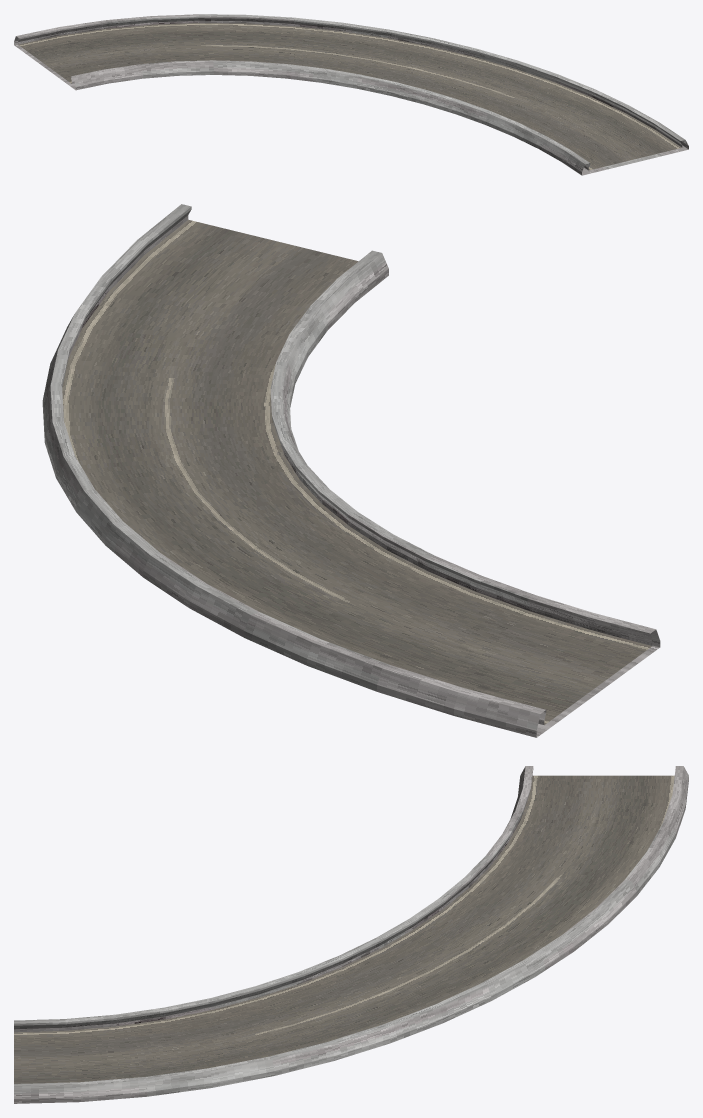
File: road-Turn-Flat-Flat-Up1-Left-Size4.glb
3 views of the same model, one above another, from view 1: azimuth 30°, elevation 25°; view 2: azimuth 150°, elevation 25°; view 3: azimuth 270°, elevation 25° (orthographic). The views are drawn at different scales.
Parts seen in each view (by area): view 1: road-Turn-Flat-Flat-Up1-Left-Size4; view 2: road-Turn-Flat-Flat-Up1-Left-Size4; view 3: road-Turn-Flat-Flat-Up1-Left-Size4.
Part boxes in pixels (x1,y1,x2,y2): road-Turn-Flat-Flat-Up1-Left-Size4: [14, 14, 688, 175]; road-Turn-Flat-Flat-Up1-Left-Size4: [42, 204, 660, 737]; road-Turn-Flat-Flat-Up1-Left-Size4: [14, 766, 688, 1103].
Bounding box in the file's own units: 4 × 0.3438 × 4.
2 materials, 2 textured.
